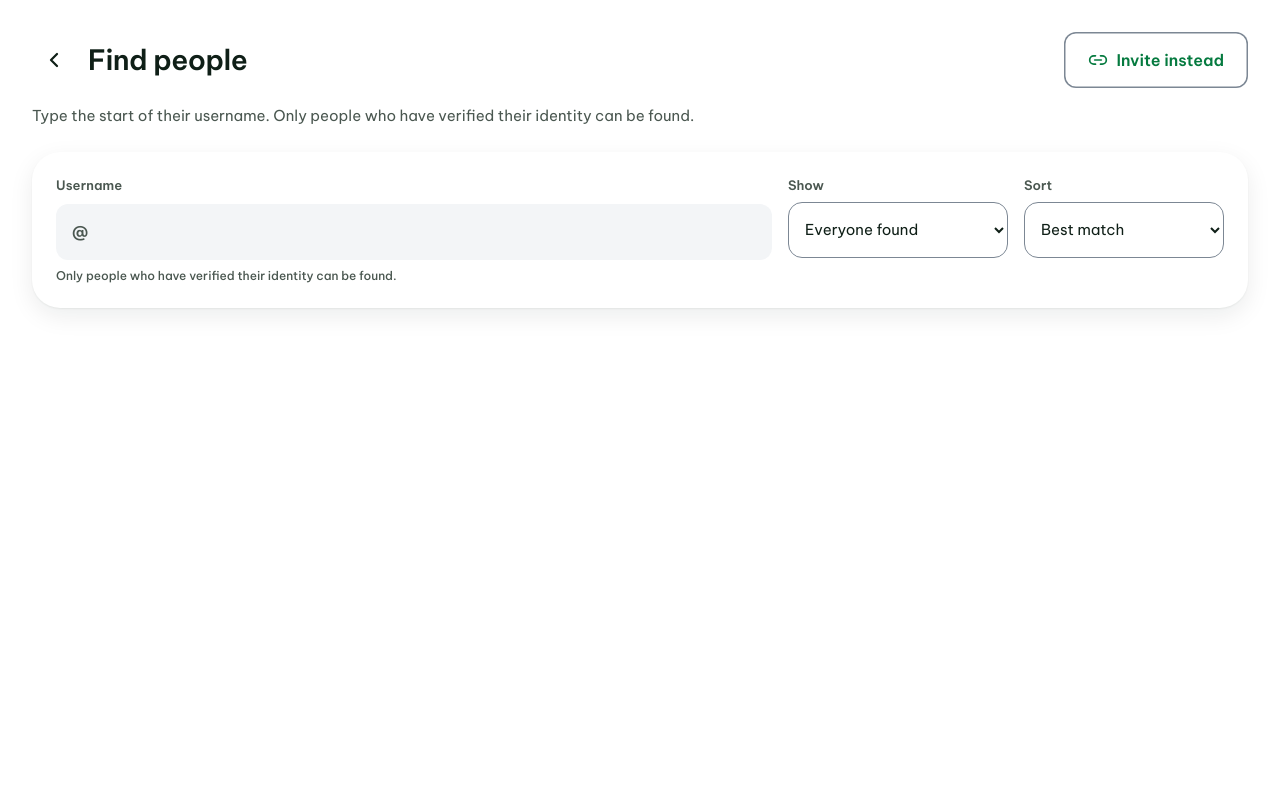
it: finding people › waits for three letters and a pause in typing, then shows who it found with how they are related
This screenshot has width=1280, height=800.
In the field labelled "Username": (414,232) left=56, top=204, right=772, bottom=260, type "ch"
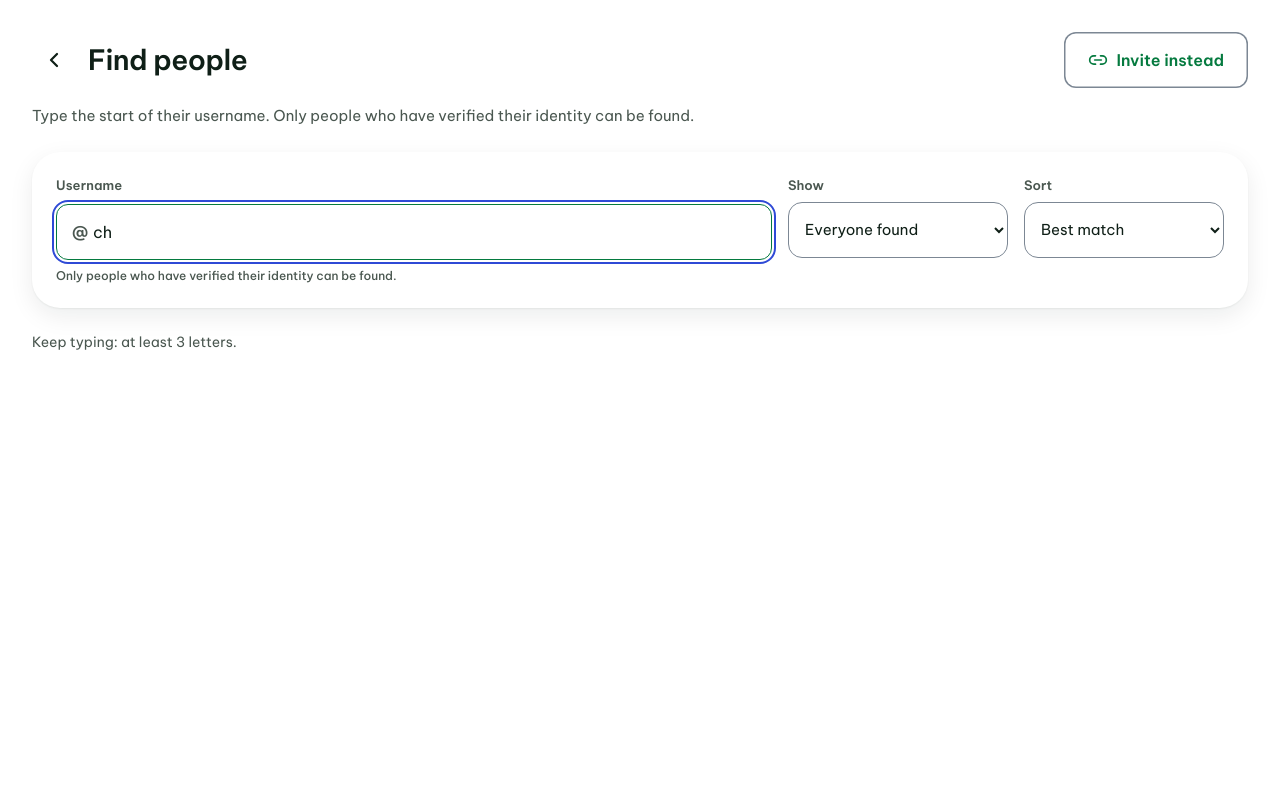
Expected: the text "Keep typing: at least 3 letters." is shown, left=32, top=332, right=237, bottom=350
In the field labelled "Username": (414,232) left=56, top=204, right=772, bottom=260, type "i"
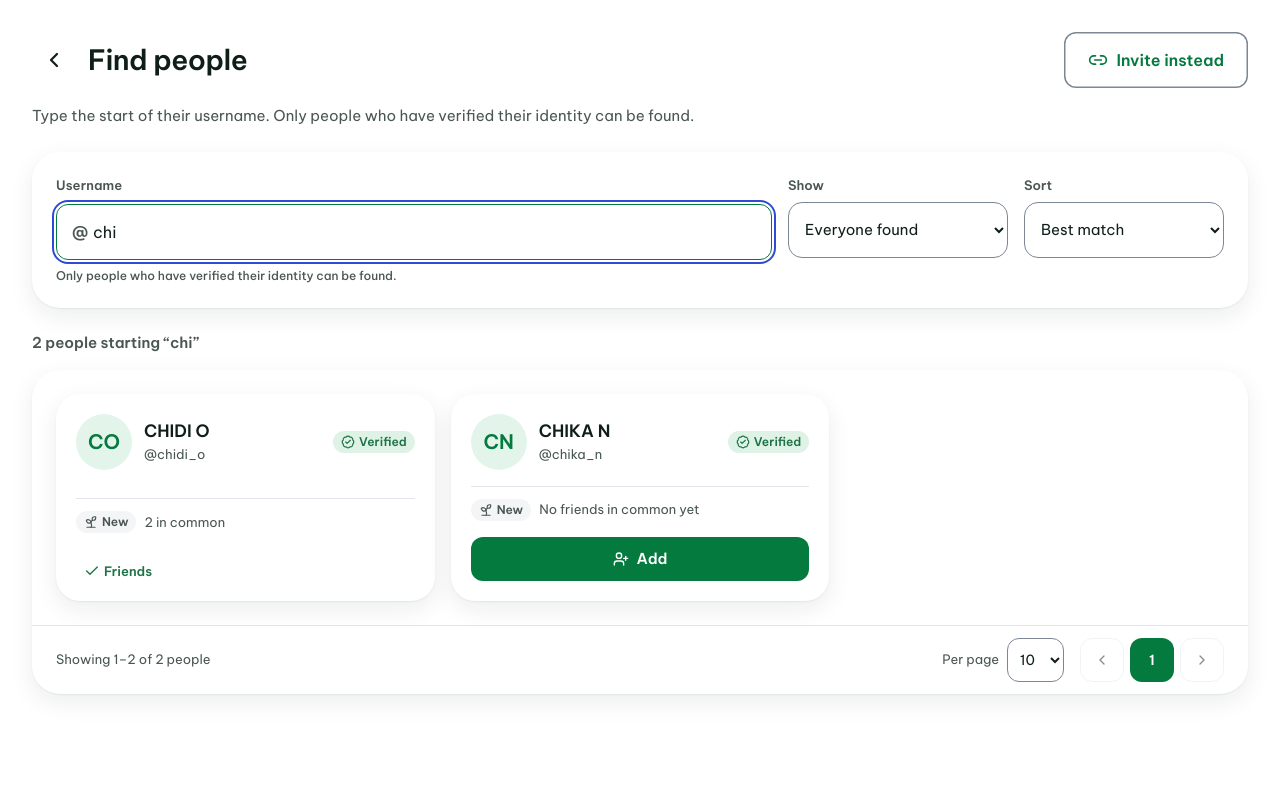
Expected: the number of list items is 2, left=56, top=394, right=435, bottom=601; left=451, top=394, right=829, bottom=601
Expected: the text "2 in common" is shown, left=144, top=514, right=225, bottom=530
Expected: the text "Friends" is shown, left=84, top=562, right=152, bottom=579
